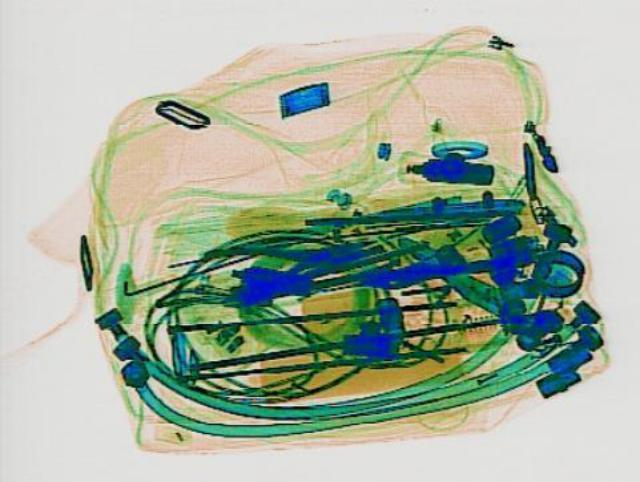Pliers: (198, 223, 358, 297)
